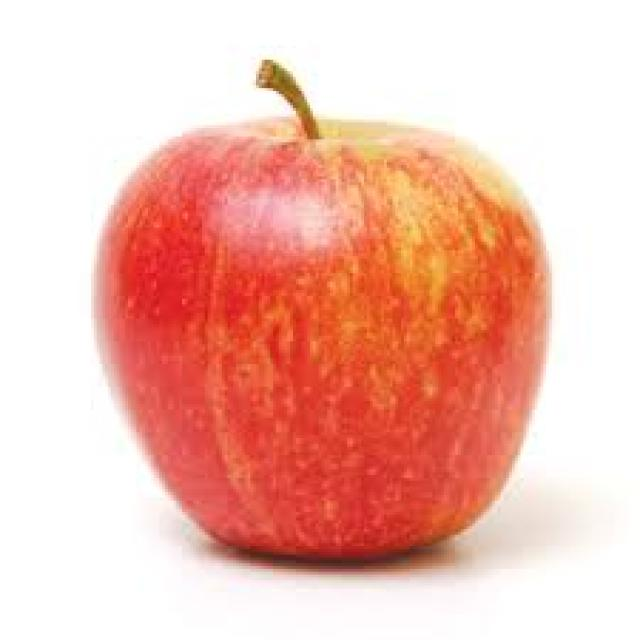Apple: (97, 126, 515, 558)
